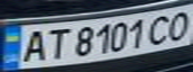0: (109, 19, 133, 52)
1: (93, 20, 115, 55), (127, 16, 151, 48)
8: (72, 24, 96, 57)
A: (15, 27, 51, 64)
C: (145, 11, 178, 45)
O: (163, 8, 193, 42)
T: (39, 26, 72, 61)
